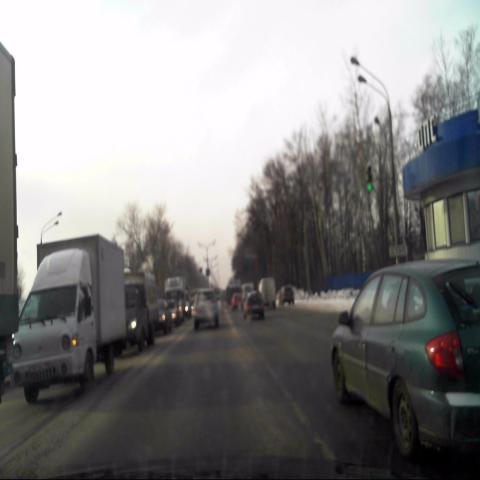6_16: (389, 245, 407, 257)
